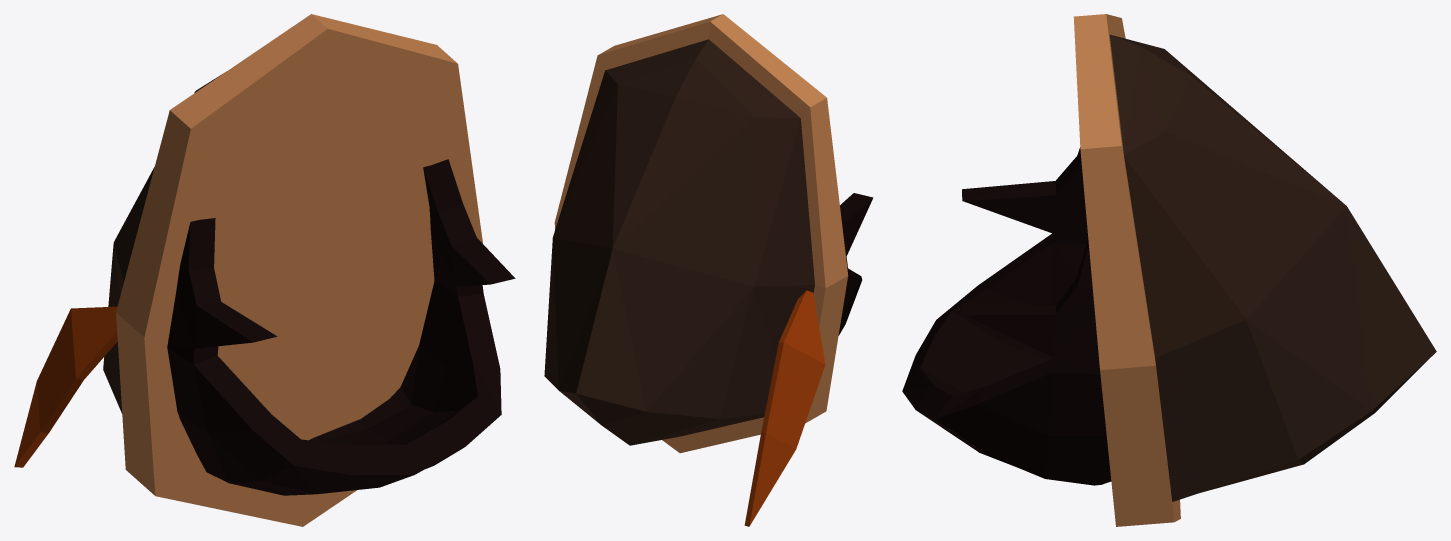
Rendered from Hat 08.FBX.
3 renders of one model, left to right at view 1: azimuth 30°, elevation 25°; view 2: azimuth 150°, elevation 25°; view 3: azimuth 270°, elevation 25°, orthographic. The views are drawn at different scales.
Parts seen in each view (by area): view 1: Hat 08, Hair Headgear; view 2: Hat 08, Hair Headgear; view 3: Hat 08, Hair Headgear.
Boxes of the visible parts, box(x1,y1,x2,y2) form: Hat 08: box(14, 14, 482, 526); Hair Headgear: box(167, 159, 515, 495); Hat 08: box(544, 14, 848, 526); Hair Headgear: box(838, 193, 873, 335); Hat 08: box(1073, 14, 1436, 526); Hair Headgear: box(902, 147, 1111, 485).
Bounding box in the file's own units: 33.17 × 45.68 × 43.44.
